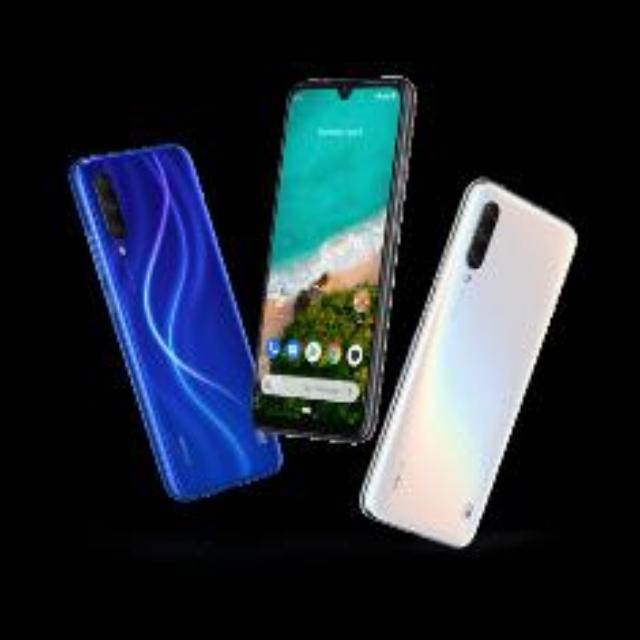Phone: (358, 172, 578, 550), (72, 140, 288, 500), (251, 75, 414, 439)
